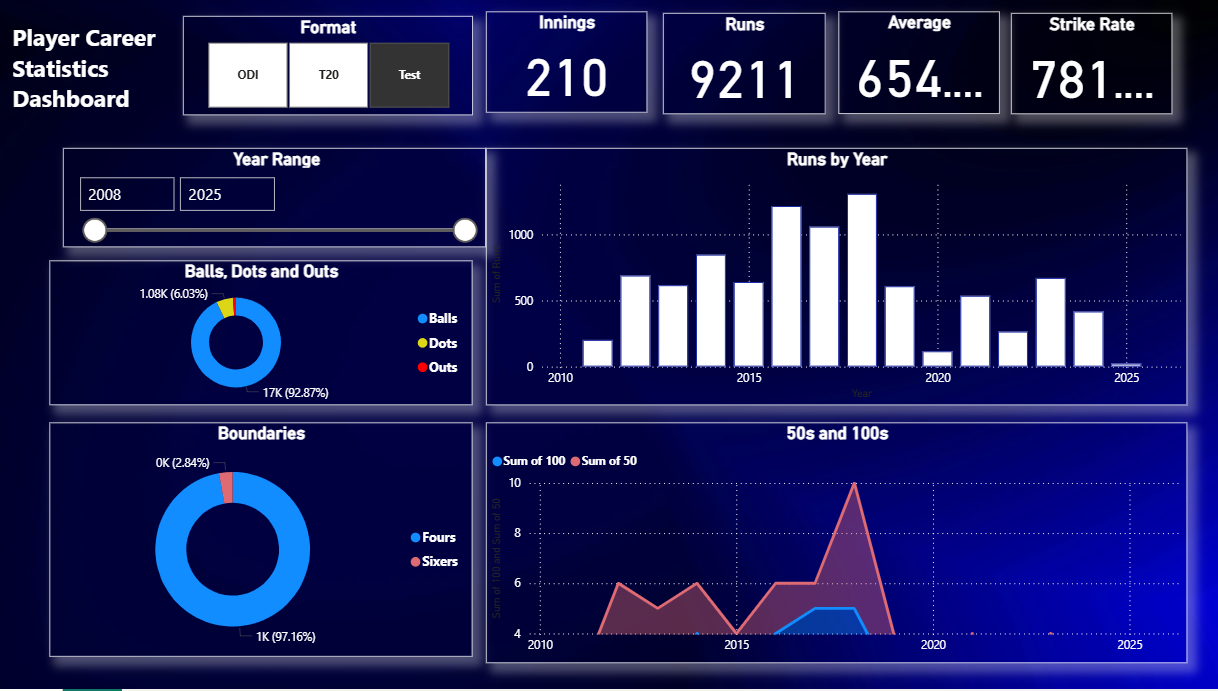

The dashboard page shown, as its layout file describes it:
{"tool":"powerbi","page":{"name":"Page 1","canvas":[1280,720],"ordinal":0},"visuals":[{"type":"textbox","box":[10.2,18.6,162.7,115.3],"z":0},{"type":"card","title":"Innings","fields":{"Values":["Sum(Table 1.Innings)"]},"box":[510.2,13.6,167.8,105.1],"z":1000},{"type":"card","title":"Runs","fields":{"Values":["Sum(Table 1.Runs)"]},"box":[693.2,15.3,169.5,105.1],"z":2000},{"type":"card","title":"Average","fields":{"Values":["Sum(Table 1.Avg)"]},"box":[876.3,13.6,167.8,106.8],"z":3000},{"type":"card","title":"Strike Rate","fields":{"Values":["Sum(Table 1.SR)"]},"box":[1055.9,15.3,167.8,105.1],"z":4000},{"type":"slicer","title":"Format","fields":{"Values":["Table 1.Format"]},"box":[193.2,18.6,301.7,103.4],"z":5000},{"type":"slicer","title":"Year Range","fields":{"Values":["Table 1.Year"]},"box":[69.5,155.9,440.7,103.4],"z":6000},{"type":"clusteredColumnChart","title":"Runs by Year","fields":{"Y":["Sum(Table 1.Runs)"],"Category":["Table 1.Year"]},"box":[510.2,155.9,730.5,267.8],"z":7000},{"type":"donutChart","title":"Boundaries","fields":{"Y":["Sum(Table 1.4s)","Sum(Table 1.6s)"]},"box":[54.2,442.4,440.7,244.1],"z":8000},{"type":"stackedAreaChart","title":"50s and 100s","fields":{"Y":["Sum(Table 1.100)","Sum(Table 1.50)"],"Category":["Table 1.Year"]},"box":[510.2,442.4,730.5,250.8],"z":9000},{"type":"donutChart","title":"Balls, Dots and Outs","fields":{"Y":["Sum(Table 1.Balls)","Sum(Table 1.Dot %)","Sum(Table 1.Outs)"]},"box":[54.2,272.9,440.7,150.8],"z":10000}]}

Visuals, with their boxes in screenshot pixels (x1, y1, x2, y2), scaled from the page's 1280x720 canvas onto the 1218x691 screenshot:
textbox: bbox(10, 18, 165, 129)
"Innings" card: bbox(485, 13, 645, 114)
"Runs" card: bbox(660, 15, 821, 116)
"Average" card: bbox(834, 13, 994, 116)
"Strike Rate" card: bbox(1005, 15, 1164, 116)
"Format" slicer: bbox(184, 18, 471, 117)
"Year Range" slicer: bbox(66, 150, 485, 249)
"Runs by Year" clusteredColumnChart: bbox(485, 150, 1181, 407)
"Boundaries" donutChart: bbox(52, 425, 471, 659)
"50s and 100s" stackedAreaChart: bbox(485, 425, 1181, 665)
"Balls, Dots and Outs" donutChart: bbox(52, 262, 471, 407)
